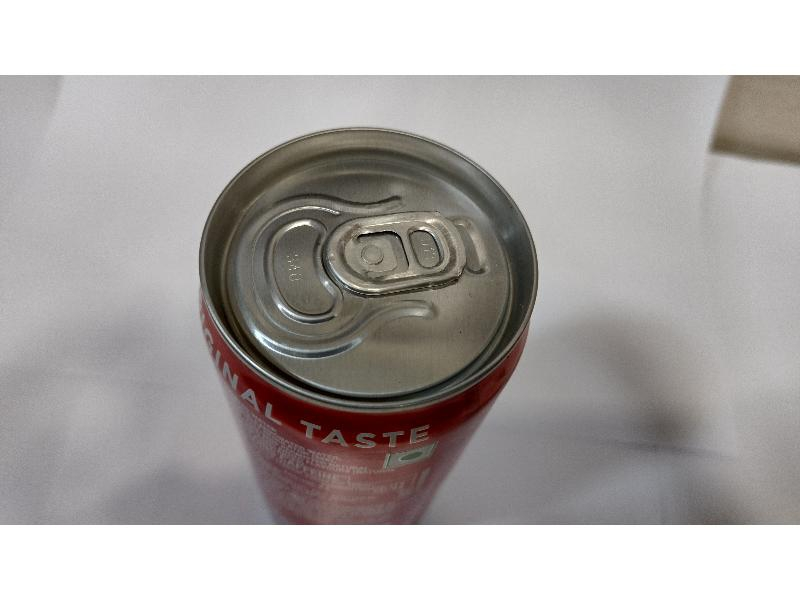can: (181, 115, 542, 512)
